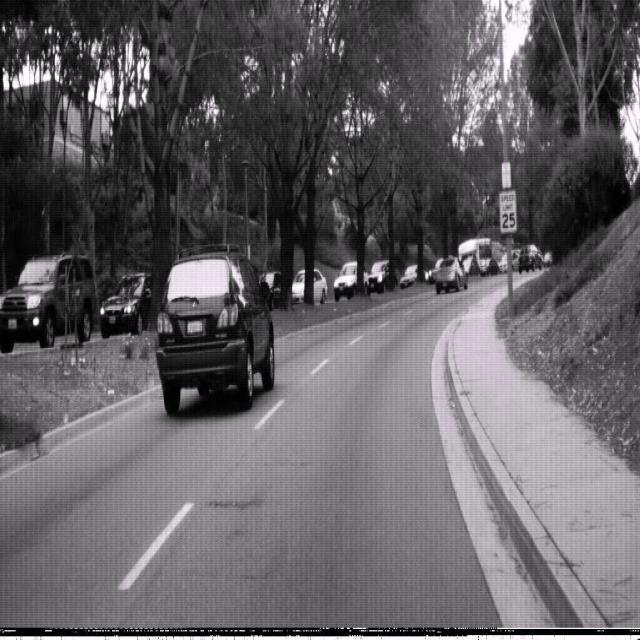speedLimit25: (498, 188, 518, 234)
